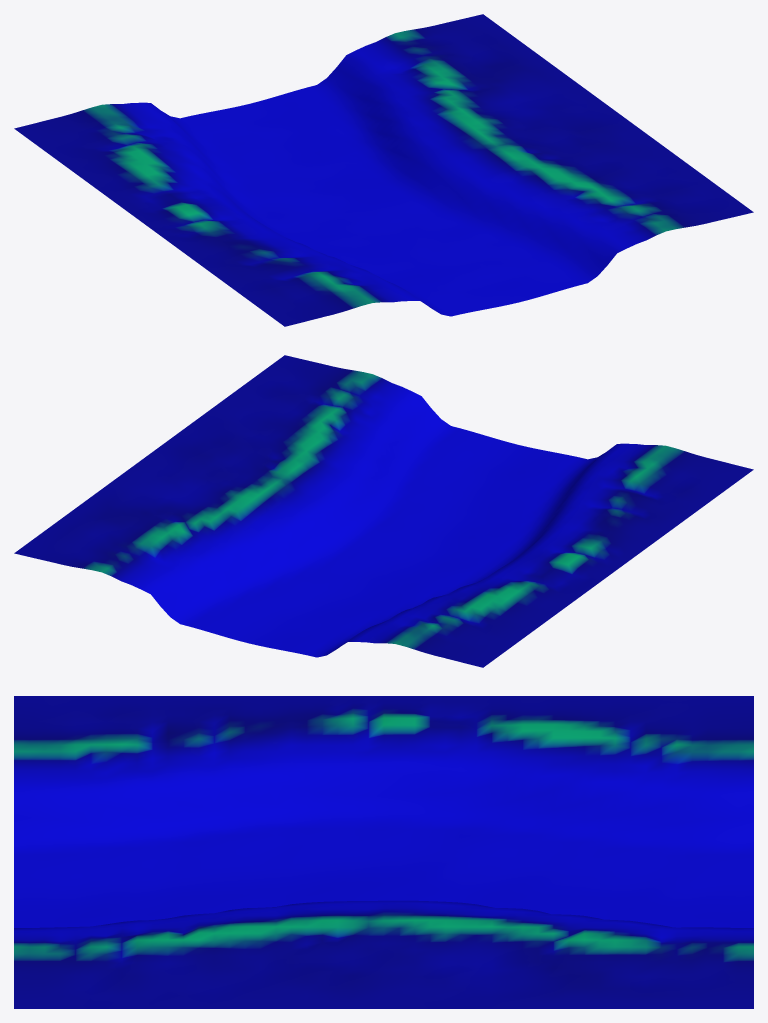
File: channel_straight_b.glb
The picture shows the model from 3 angles, top to bottom: view 1: azimuth 30°, elevation 25°; view 2: azimuth 150°, elevation 25°; view 3: azimuth 270°, elevation 25°; orthographic projection. The views are drawn at different scales.
Visible parts, largest first — view 1: channel_straight_b; view 2: channel_straight_b; view 3: channel_straight_b.
Part boxes in pixels (x1,y1,x2,y2): channel_straight_b: (14,14,753,326); channel_straight_b: (14,355,753,667); channel_straight_b: (14,696,753,1008).
Size of what is drawn, in the model's own units: 24 by 1.79 by 24.
